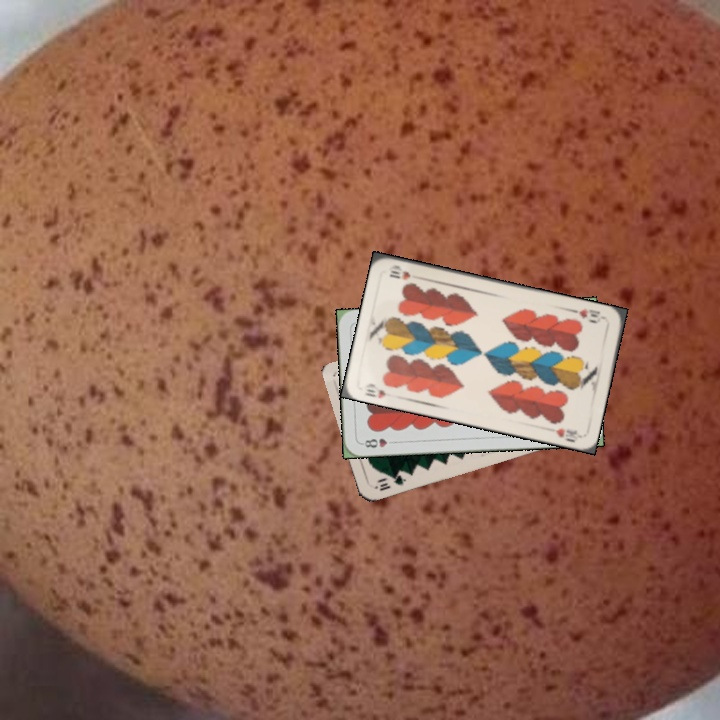G10: (371, 470, 409, 493)
H10: (569, 304, 609, 326), (360, 379, 389, 401)
H8: (358, 434, 398, 450)
